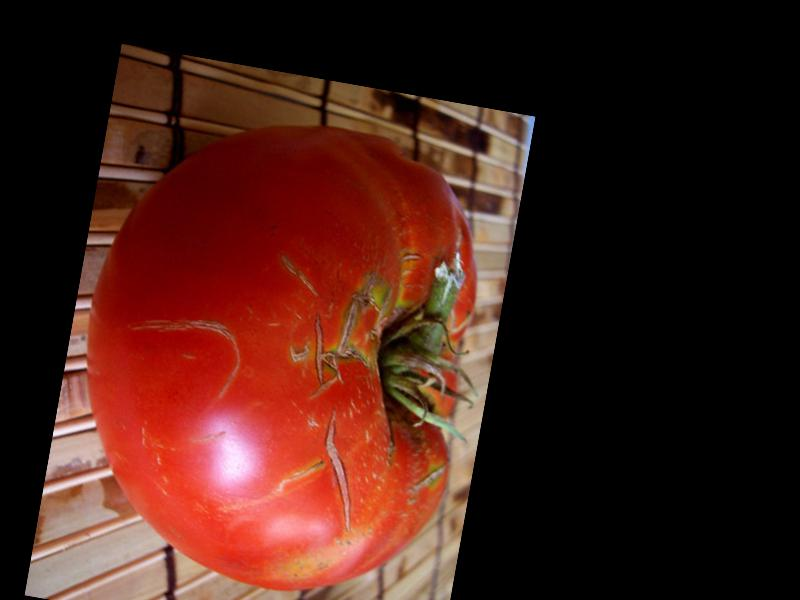Tomato: (54, 92, 505, 600)
